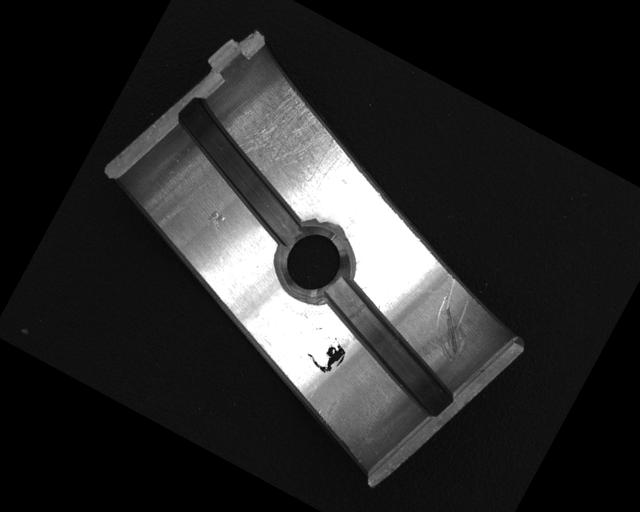blot: (302, 329, 352, 379)
bruise: (202, 207, 228, 232)
gap: (147, 91, 339, 252), (300, 276, 479, 424)
hole: (263, 214, 361, 311)
nick: (413, 275, 491, 365)
scratch: (212, 66, 369, 203)
